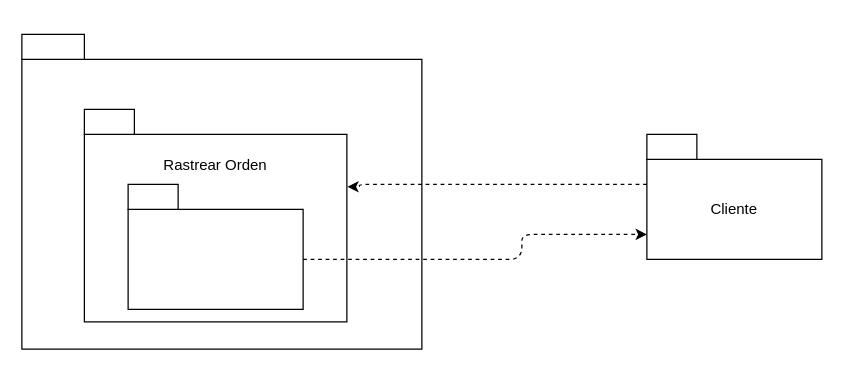
This 844x371 diagram has some shape labels left out. Here are the shapes that lost their labels. From the top down, the box of each, then its label:
(21, 58, 422, 349): Sistema
(127, 208, 303, 309): No. Rastreo
